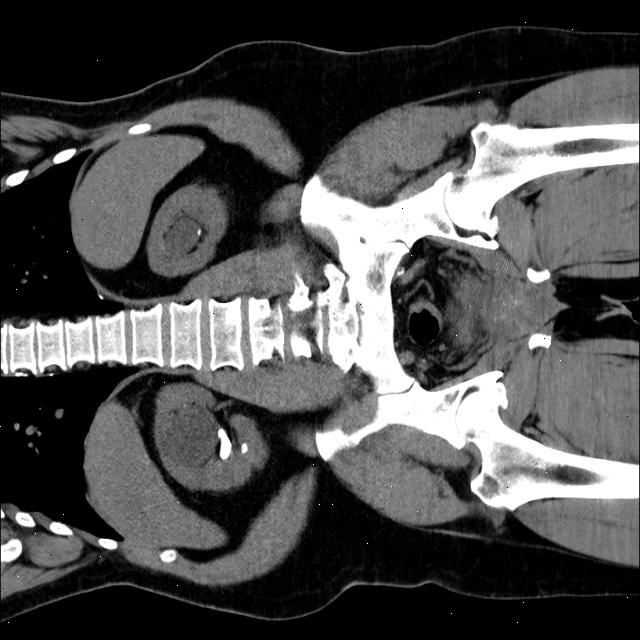kidneystone: (219, 427, 232, 460), (241, 444, 248, 454), (196, 225, 201, 239)
